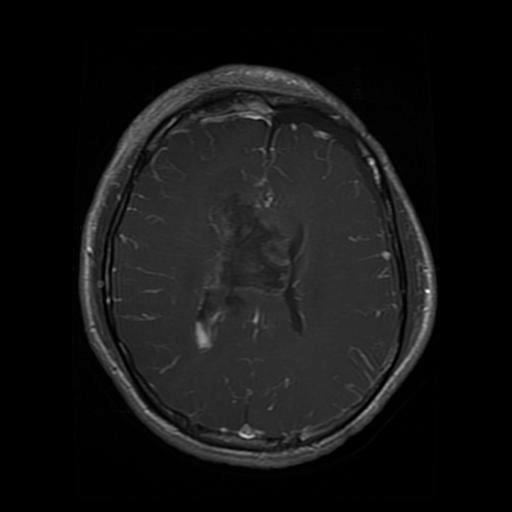Tumour-Glioma: (276, 89, 352, 155)
